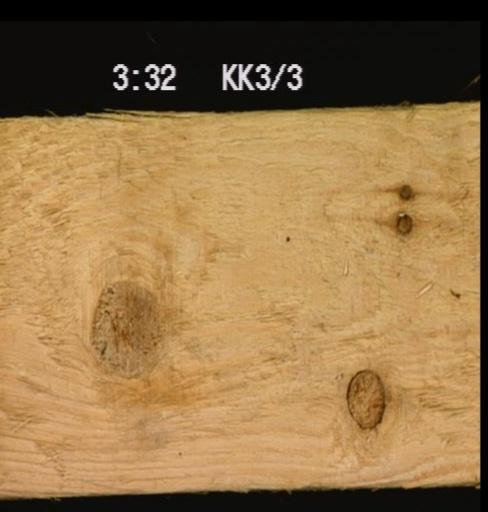dry_knot: (344, 367, 385, 430)
sound_knot: (87, 275, 170, 378)
split: (82, 110, 234, 128)
